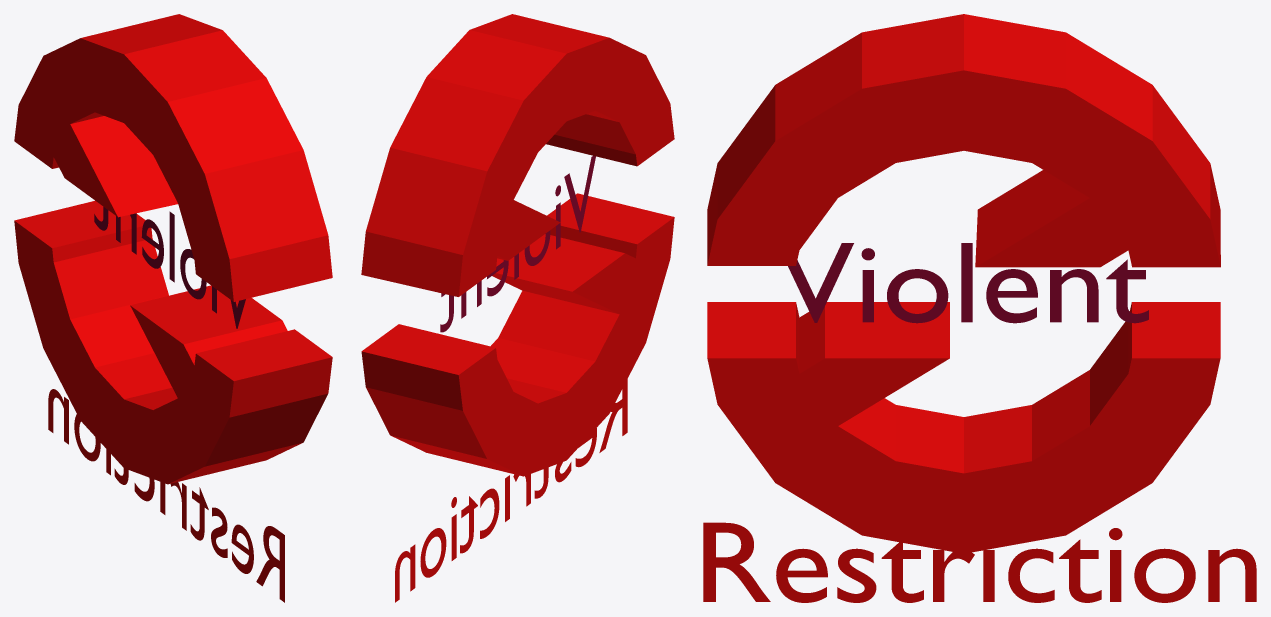
File: ViolentWarning.fbx
3 renders of one model, left to right at view 1: azimuth 30°, elevation 25°; view 2: azimuth 150°, elevation 25°; view 3: azimuth 270°, elevation 25°, orthographic. The views are drawn at different scales.
Parts seen in each view (by area): view 1: Circle, Restriction, Violent; view 2: Circle, Restriction, Violent; view 3: Circle, Restriction, Violent.
Boxes of the visible parts, x1,y1,x2,y2 form: Circle: [14, 14, 332, 484]; Restriction: [48, 389, 284, 602]; Violent: [94, 207, 245, 328]; Circle: [361, 14, 674, 476]; Restriction: [395, 379, 627, 602]; Violent: [440, 155, 595, 332]; Circle: [707, 14, 1220, 553]; Restriction: [703, 522, 1256, 602]; Violent: [788, 243, 1148, 323].
Size of the model in its own units: 62.5 by 290 by 259.
